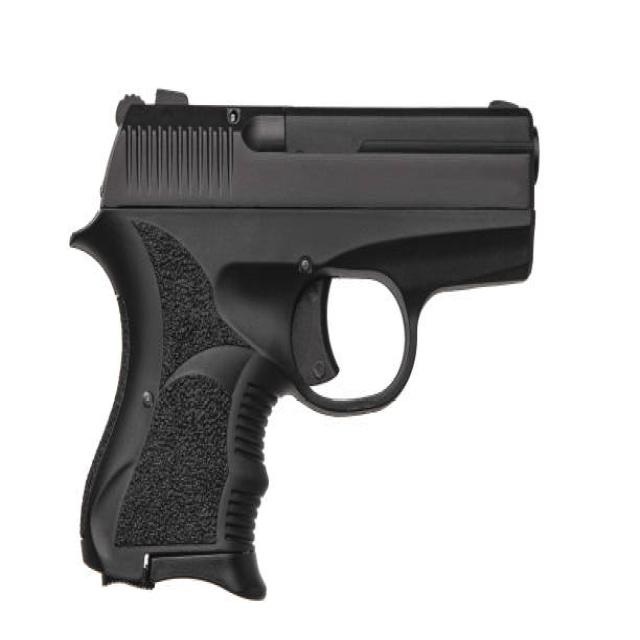pistol: (66, 66, 549, 614)
